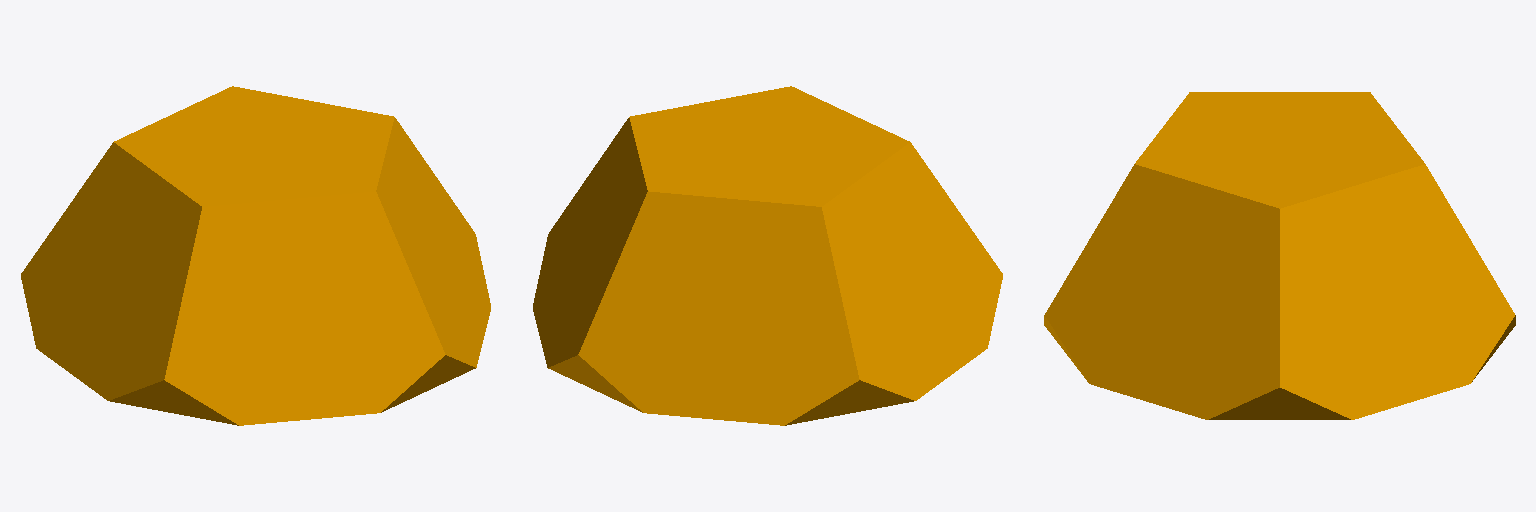
URDF robot description (semidodecahedron):
<?xml version="1.0" ?>
<robot xmlns:xacro="http://www.ros.org/wiki/xacro" name="semidodecahedron">

    <link name="semidodecahedron">
        <inertial>
            <origin xyz="0.0 0.0 0.049" rpy="0 0 0"/>
            <mass value="0.314"/>
            <inertia ixx="0.001" ixy="0.0" ixz="0.0" iyy="0.001" iyz="0.0" izz="0.002"/>
        </inertial>

        <visual>
            <origin xyz="0.0 0.0 0.0" rpy="0.0 0.0 0.0"/>
            <geometry>
                <mesh filename="./meshes/semi_dodecahedron/semi-dodecahedron.obj" scale="1 1 1"/>
            </geometry>
        </visual>

        <collision>
            <origin xyz="0.0 0.0 0.0" rpy="0.0 0.0 0.0"/>
            <geometry>
                <mesh filename="./meshes/semi_dodecahedron/semi-dodecahedron.obj" scale="1 1 1"/>
            </geometry>
        </collision>
    </link>

</robot>

--- Facts derived from the render (not from the file) ---
3 views of the same robot in one strip: view 1: azimuth 30°, elevation 25°; view 2: azimuth 150°, elevation 25°; view 3: azimuth 270°, elevation 25° (orthographic).
Robot: semidodecahedron — 1 links, 0 joints (none); root link semidodecahedron; default pose: every joint at zero.
Visible links, largest first — view 1: semidodecahedron; view 2: semidodecahedron; view 3: semidodecahedron.
Boxes of the visible links, x1,y1,x2,y2 form: semidodecahedron: [21, 86, 490, 425]; semidodecahedron: [533, 86, 1002, 425]; semidodecahedron: [1044, 92, 1515, 419].
Bounding box of the posed robot: 0.2621 × 0.2618 × 0.1114 m (x, y, z).
Meshes: 1 distinct files referenced, 1 mesh visuals loaded (1 OBJ).
